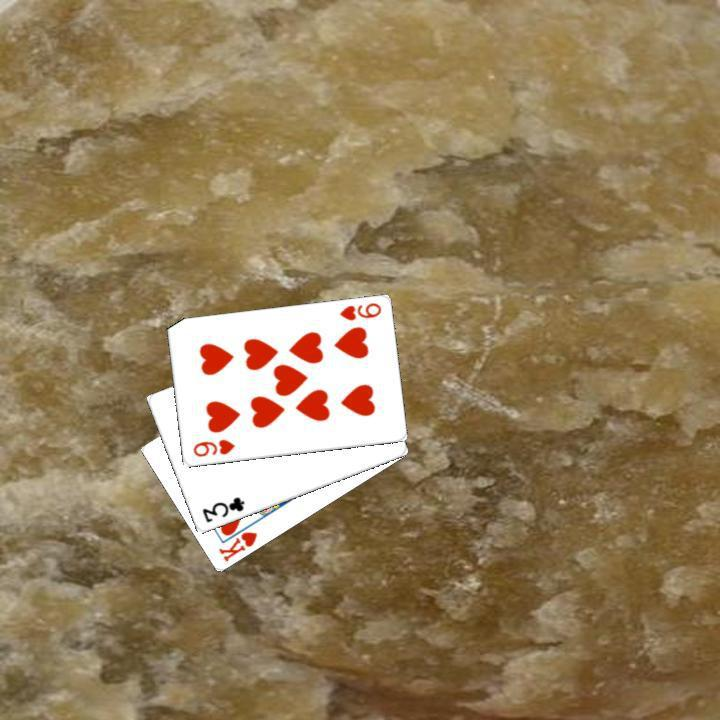3: (197, 493, 246, 525)
9: (188, 435, 236, 459), (335, 299, 383, 323)
K: (214, 527, 259, 564)
